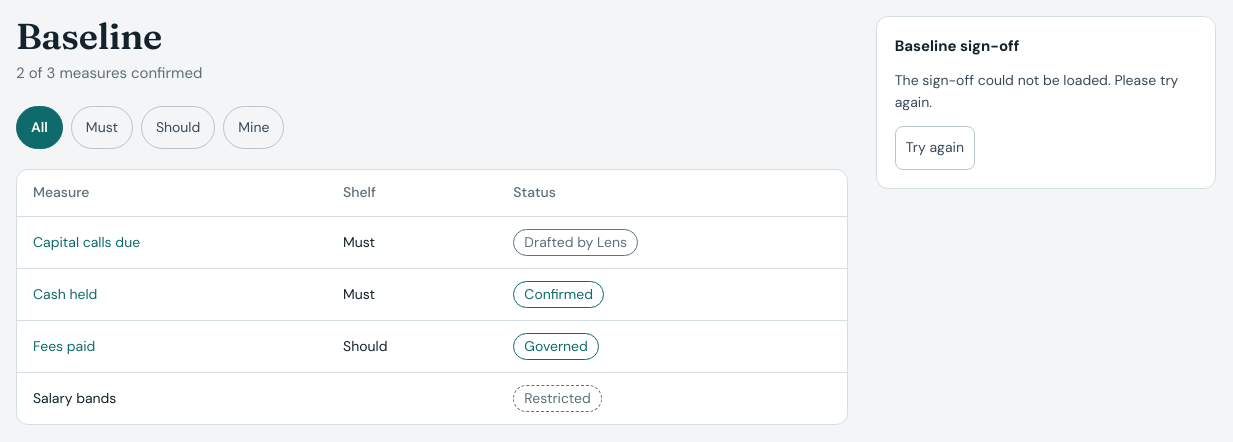
Test case: baseline page › lists measures with status and hides a restricted one's content
expect the button with aria-label "Open: Capital calls due" is shown: met, box 33,232 -> 140,253
expect the text "Drafted by Lens" is shown: met, box 513,229 -> 638,256
Click the button "Should".
click(178, 127)  # box 141,106 -> 215,149
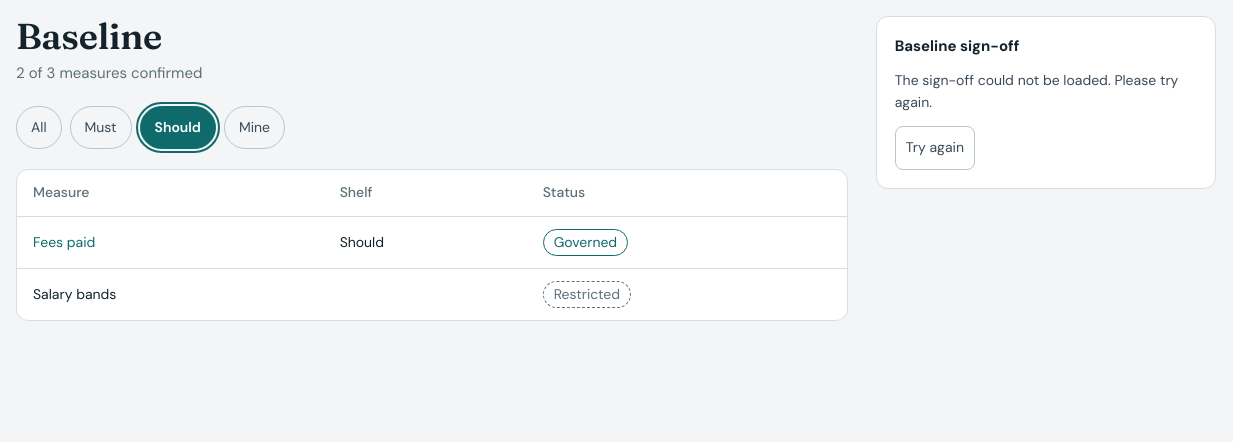
expect the button with aria-label "Open: Fees paid" is shown: met, box 33,232 -> 95,253
